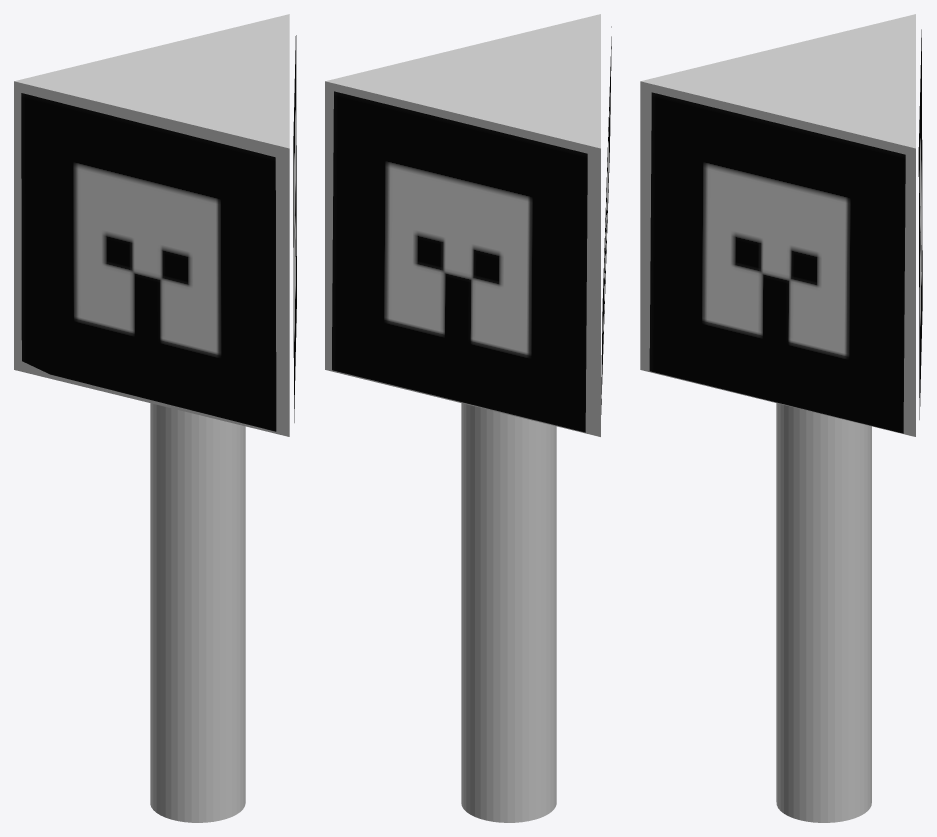
Rendered from artag.dae.
3 views of the same model, side by side, from view 1: azimuth 30°, elevation 25°; view 2: azimuth 150°, elevation 25°; view 3: azimuth 270°, elevation 25° (orthographic).
Parts seen in each view (by area): view 1: ARtag.002, Artag tam model, ARtag.001; view 2: ARtag, Artag tam model, ARtag.002; view 3: ARtag.001, Artag tam model, ARtag.
Part boxes in pixels (bbox=[...]): ARtag.002: bbox=[21, 93, 276, 431]; Artag tam model: bbox=[14, 14, 289, 822]; ARtag.001: bbox=[293, 35, 296, 422]; ARtag: bbox=[332, 91, 587, 432]; Artag tam model: bbox=[325, 14, 600, 822]; ARtag.002: bbox=[601, 26, 611, 414]; ARtag.001: bbox=[649, 92, 905, 433]; Artag tam model: bbox=[640, 14, 915, 822]; ARtag: bbox=[918, 29, 922, 419].
Size of the model in its own units: 152 by 133 by 376.
